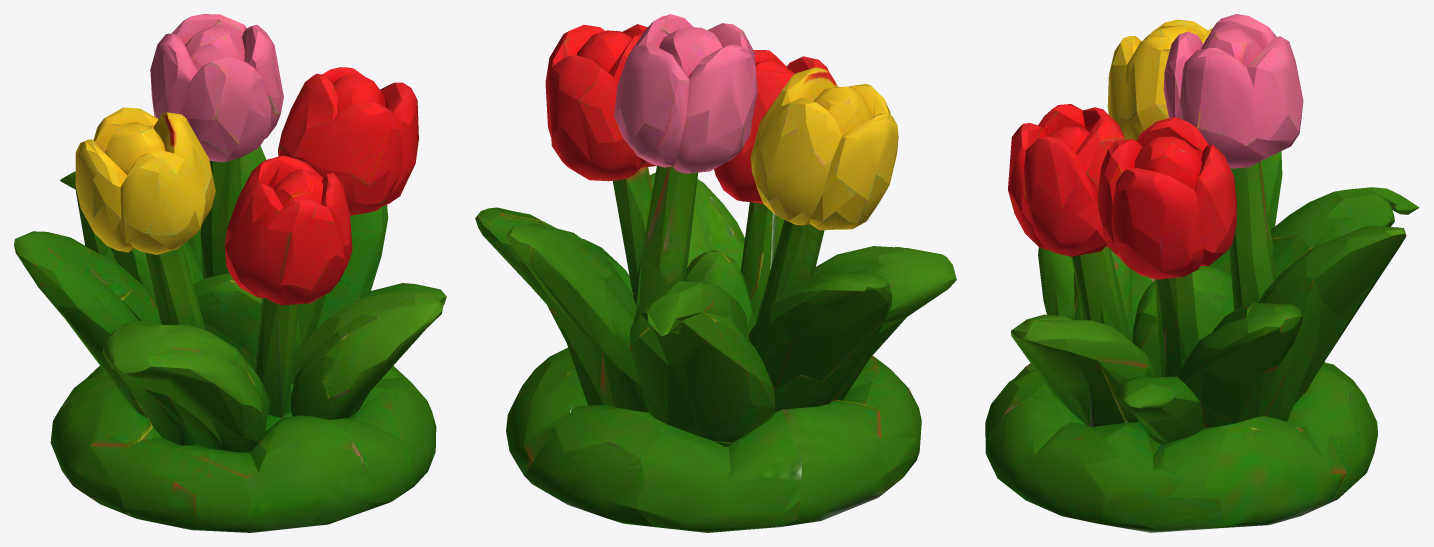
File: skate-blomster.glb
The picture shows the model from 3 angles, left to right: view 1: azimuth 30°, elevation 25°; view 2: azimuth 150°, elevation 25°; view 3: azimuth 270°, elevation 25°; orthographic projection. The views are drawn at different scales.
Bounding box in the file's own units: 1.8 × 1.9 × 1.78.
Materials: 1 (1 with a texture image).
